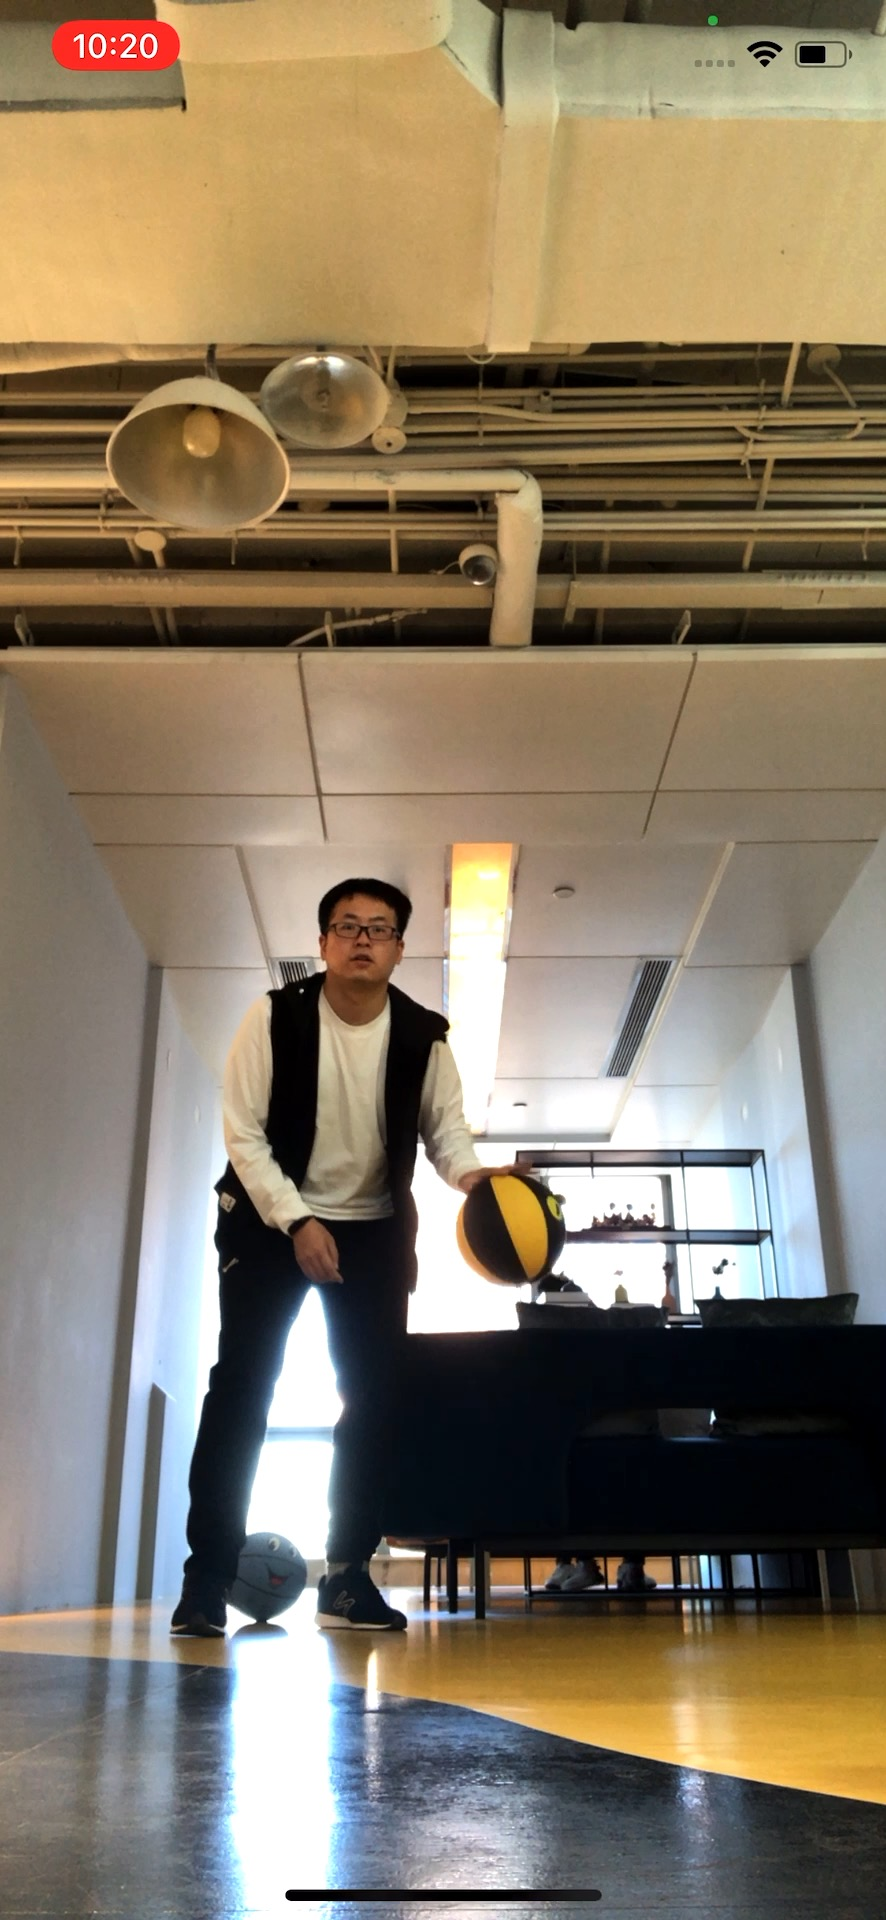ball: (459, 1172, 565, 1288), (223, 1531, 315, 1608)
